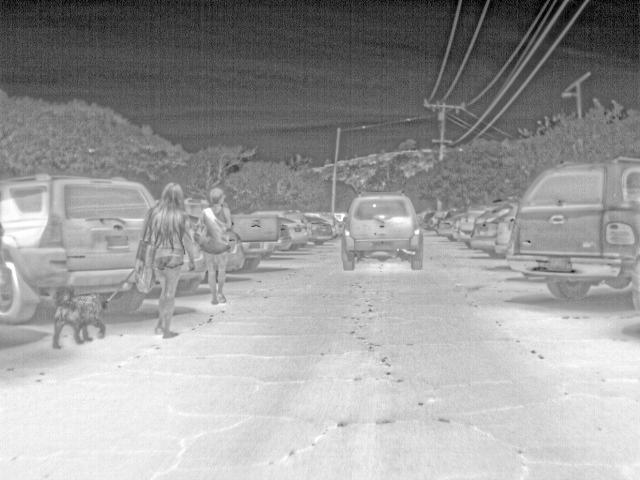car: (1, 172, 156, 326), (506, 156, 639, 300), (340, 190, 424, 271), (233, 210, 283, 272), (469, 202, 512, 258), (308, 214, 334, 246), (457, 211, 477, 242), (231, 230, 245, 272), (439, 212, 458, 240), (429, 210, 448, 234), (291, 222, 306, 250), (279, 224, 292, 250), (332, 214, 344, 238), (419, 210, 434, 228)
dog: (50, 290, 110, 350)
person: (136, 181, 197, 340), (199, 185, 235, 304)
